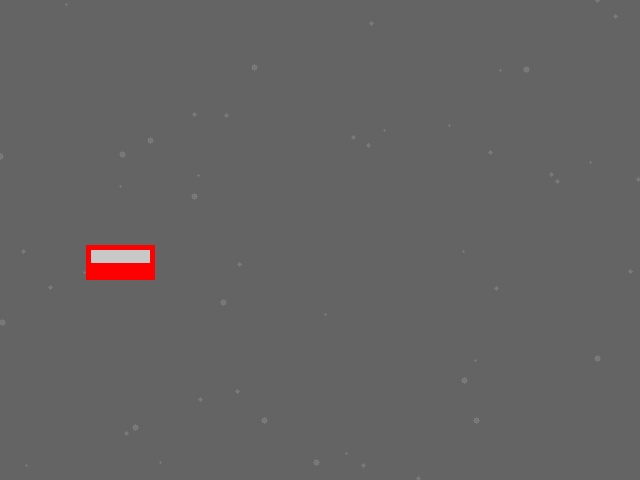car: (86, 245, 154, 279)
